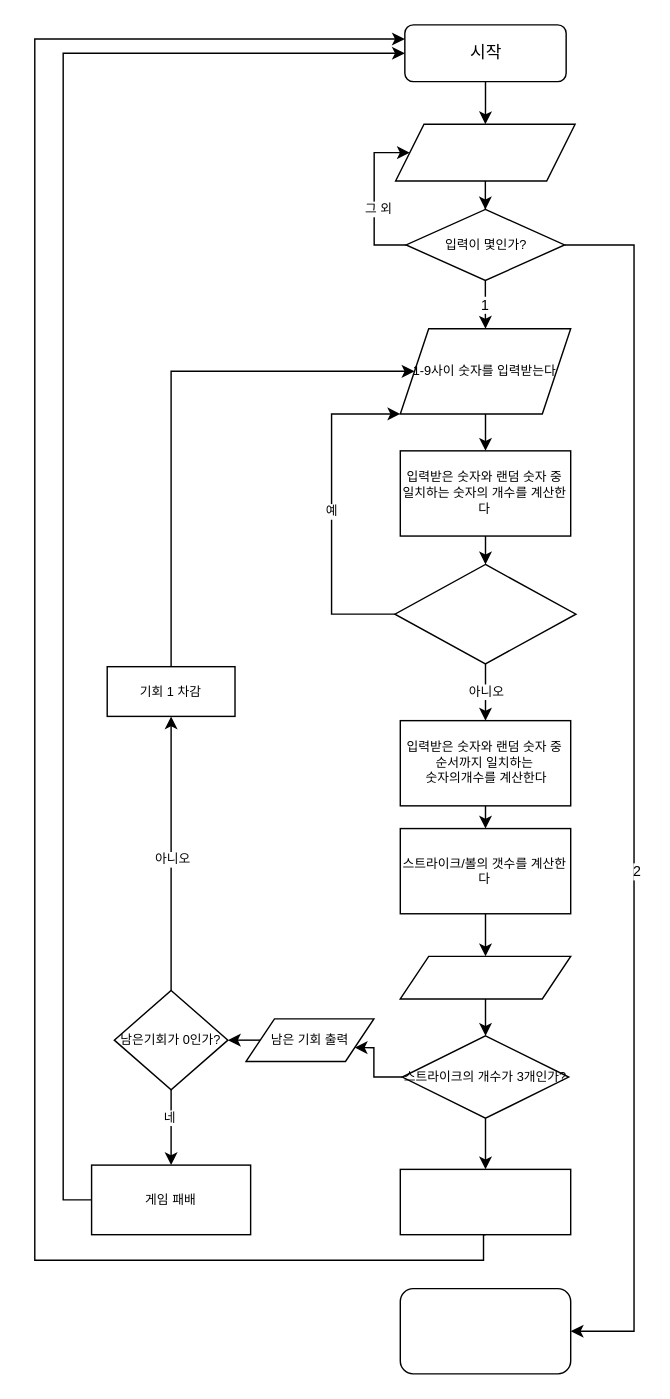
Some shapes in this 670 by 1399 pixel diagram are drawn without their labels. The centre of each missing label's shape, as x and y in pixels:
"게임 승리" belongs at pixel 485 1201.
"메뉴 번호를 입력 받는다" belongs at pixel 484 152.
"스트라이크/볼 출력" belongs at pixel 485 977.
"일치하는 숫자의 개수가 0 인가?" belongs at pixel 484 613.
"종료" belongs at pixel 485 1330.
